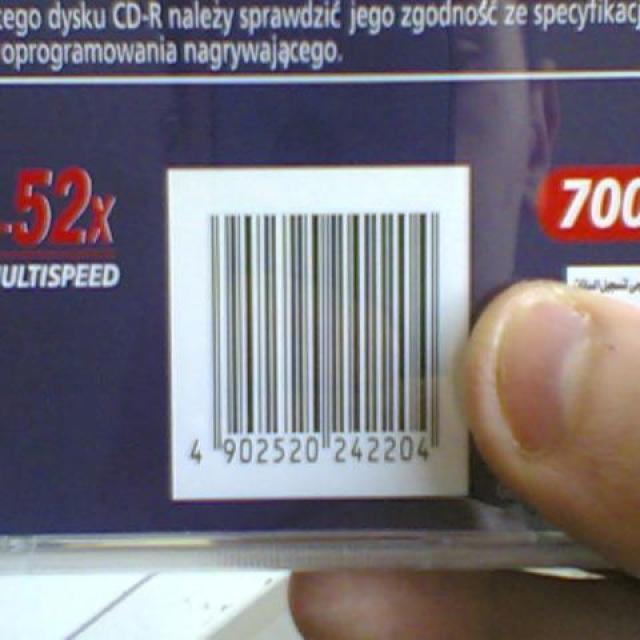Barcode: (164, 170, 465, 491)
